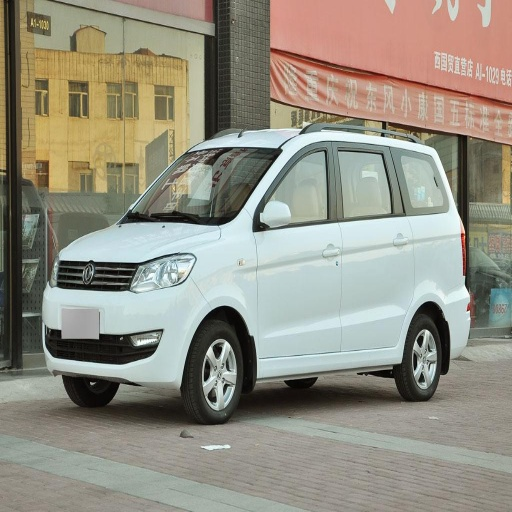back_left_door: (331, 141, 417, 350)
front_bumper: (41, 249, 206, 384)
front_glass: (121, 146, 280, 224)
front_left_door: (256, 141, 342, 357)
